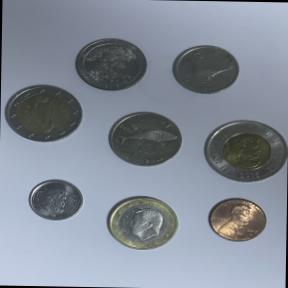coin: (197, 111, 288, 188), (102, 105, 188, 174), (0, 83, 86, 148), (102, 192, 186, 256), (72, 34, 152, 94), (202, 194, 271, 246), (26, 176, 87, 225)
